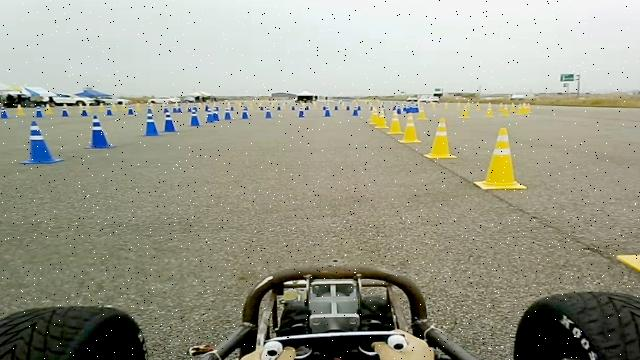blue cone: (19, 120, 64, 164), (82, 114, 109, 154), (142, 108, 160, 137), (162, 108, 177, 132), (188, 106, 200, 126), (211, 108, 222, 122), (241, 104, 250, 119), (206, 109, 214, 123), (224, 106, 230, 120)
yellow cone: (472, 126, 526, 190), (423, 118, 457, 159), (615, 232, 640, 280), (398, 112, 422, 143), (386, 110, 403, 134), (374, 109, 388, 128), (368, 109, 378, 124)
